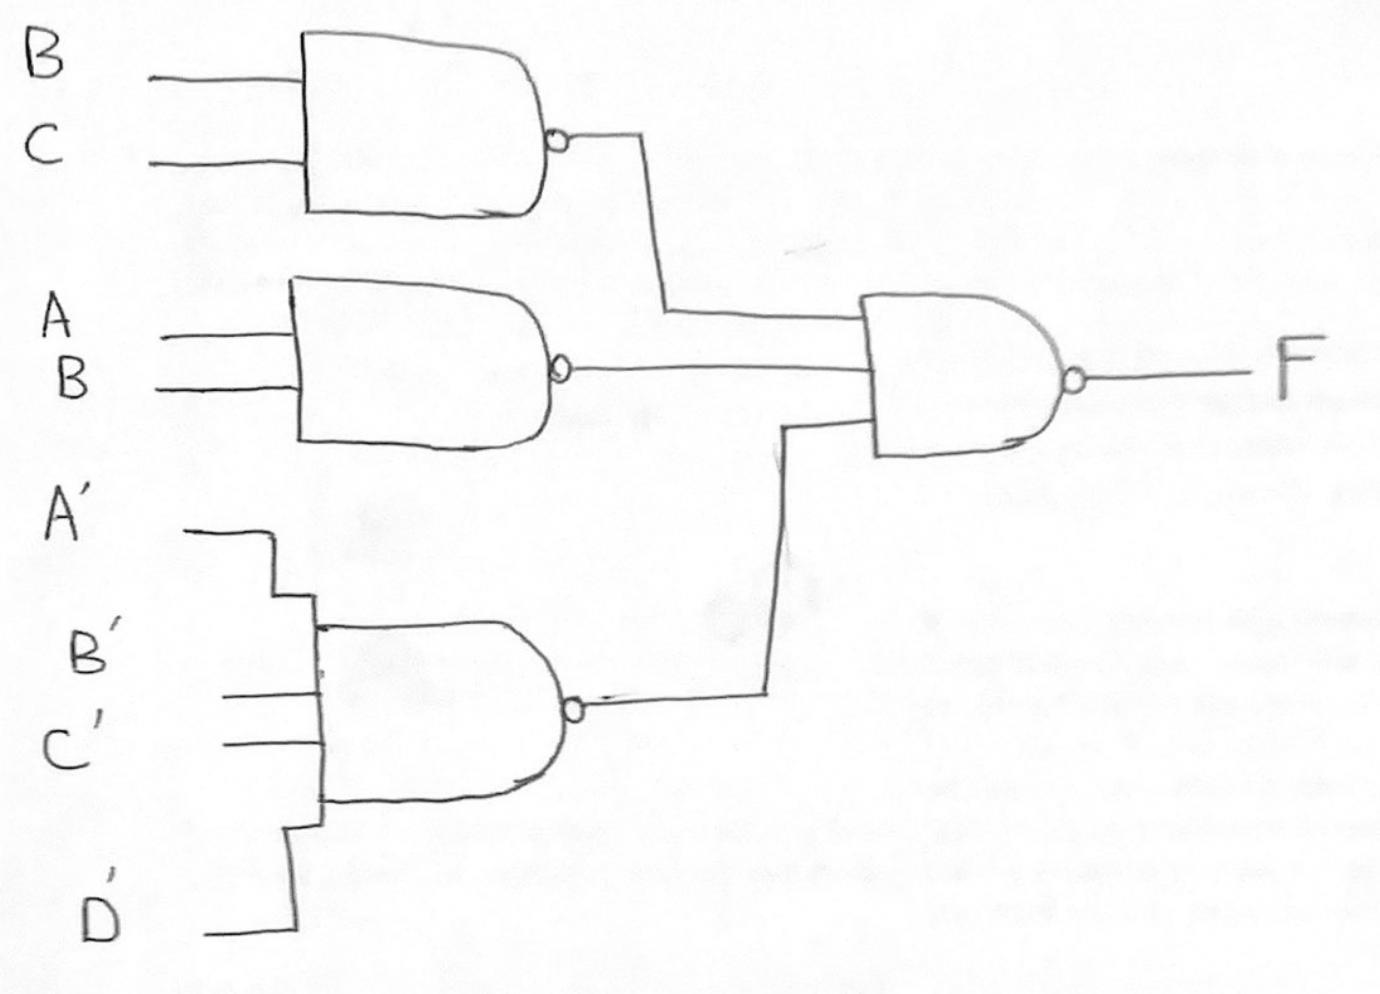NAND: (290, 570, 614, 834), (258, 263, 592, 484), (822, 256, 1119, 491), (286, 18, 588, 243)
